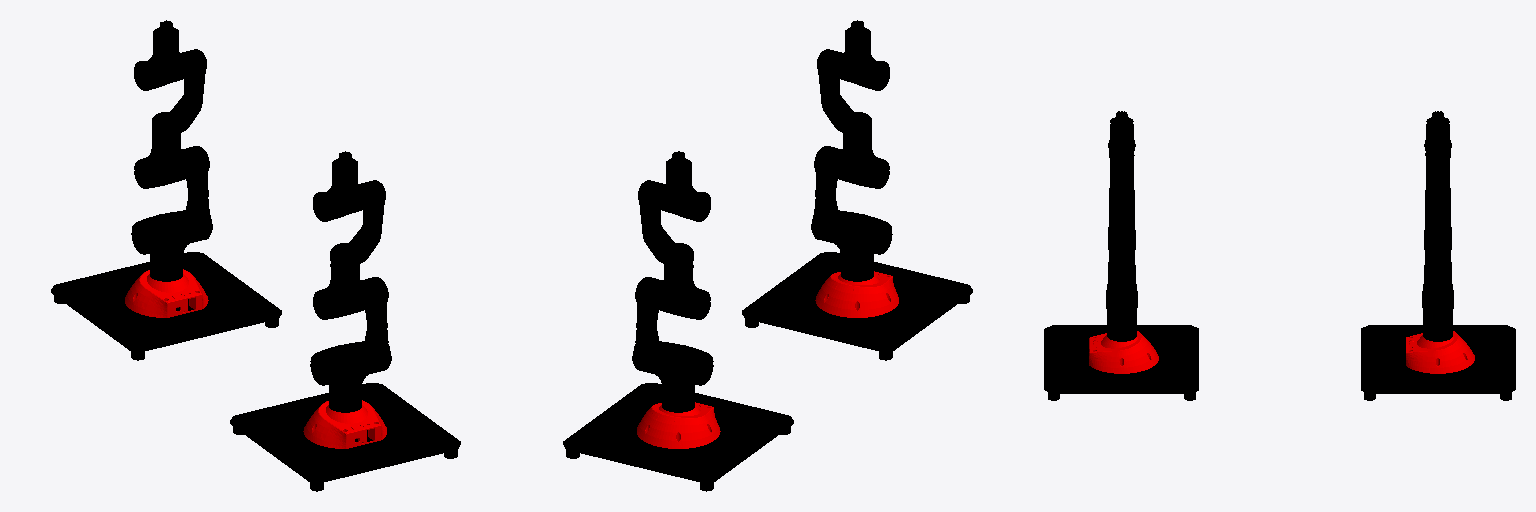
--- What the picture shows (computed from the rendered views, not written in the file) ---
The picture shows the robot from 3 angles, left to right: view 1: azimuth 30°, elevation 25°; view 2: azimuth 150°, elevation 25°; view 3: azimuth 270°, elevation 25°; orthographic projection.
Model mara with 27 links and 26 joints (12 revolute, 14 fixed), rooted at world, posed every joint at zero.
Links seen in each view (by area): view 1: mara2_base_link, mara1_base_link, mara1_base_robot, mara2_base_robot, mara2_motor1_link, mara1_motor1_link, mara1_motor4_link, mara2_motor4_link, mara2_motor5_link, mara1_motor5_link, mara1_motor3_link, mara2_motor3_link (+8 smaller); view 2: mara1_base_link, mara2_base_link, mara1_base_robot, mara2_base_robot, mara1_motor1_link, mara2_motor1_link, mara2_motor4_link, mara1_motor4_link, mara1_motor5_link, mara2_motor5_link, mara2_motor3_link, mara1_motor3_link (+8 smaller); view 3: mara2_base_link, mara1_base_link, mara1_motor2_link, mara2_motor2_link, mara1_base_robot, mara2_base_robot, mara1_motor4_link, mara2_motor4_link, mara2_motor5_link, mara1_motor5_link, mara1_motor3_link, mara2_motor3_link.
Boxes of the visible links, x1,y1,x2,y2 form: mara2_base_link: (51,252,281,360); mara1_base_link: (230,383,460,491); mara1_base_robot: (303,400,386,448); mara2_base_robot: (125,269,208,317); mara2_motor1_link: (150,210,198,277); mara1_motor1_link: (329,341,377,408); mara1_motor4_link: (330,180,385,266); mara2_motor4_link: (152,49,206,135); mara2_motor5_link: (148,20,192,83); mara1_motor5_link: (327,151,371,214); mara1_motor3_link: (325,264,373,314); mara2_motor3_link: (146,135,194,183); mara1_base_link: (742,252,972,360); mara2_base_link: (563,383,793,491); mara1_base_robot: (815,271,898,317); mara2_base_robot: (637,402,720,448); mara1_motor1_link: (825,210,873,277); mara2_motor1_link: (646,341,694,408); mara2_motor4_link: (638,180,693,266); mara1_motor4_link: (817,49,871,135); mara1_motor5_link: (831,20,875,83); mara2_motor5_link: (652,151,696,214); mara2_motor3_link: (650,265,698,314); mara1_motor3_link: (829,135,877,183); mara2_base_link: (1361,325,1515,400); mara1_base_link: (1044,325,1198,400); mara1_motor2_link: (1107,240,1136,326); mara2_motor2_link: (1423,240,1452,326); mara1_base_robot: (1089,331,1158,373); mara2_base_robot: (1406,331,1474,373); mara1_motor4_link: (1109,154,1134,211); mara2_motor4_link: (1425,154,1450,211); mara2_motor5_link: (1425,111,1450,163); mara1_motor5_link: (1109,111,1134,162); mara1_motor3_link: (1108,212,1135,249); mara2_motor3_link: (1424,212,1451,249).
Bounding box of the posed robot: 0.5 × 1.52 × 0.9122 m (x, y, z).
20 mesh visuals loaded from 10 distinct referenced files (10 Collada DAE).

robot.urdf — mara:
<?xml version="1.0" ?>
<!-- =================================================================================== -->
<!-- |    This document was autogenerated by xacro from ros2_mara_ws/src/mara/mara_description/urdf/two_mara_robots.urdf.xacro | -->
<!-- |    EDITING THIS FILE BY HAND IS NOT RECOMMENDED                                 | -->
<!-- =================================================================================== -->
<robot name="mara" xmlns:xacro="http://ros.org/wiki/xacro">
  <!--
  Author: Alejandro  Hernandez
-->
  <link name="mara1_base_link">
    <inertial>
      <origin rpy="0 0 0" xyz="8.625E-08 -4.6583E-06 0.03145"/>
      <mass value="7.033"/>
      <inertia ixx="0.1478344" ixy="-0.00001" ixz="0.0" iyy="0.14782335" iyz="0.0" izz="0.29471799"/>
    </inertial>
    <visual>
      <origin rpy="0 0 0" xyz="0 0 0"/>
      <geometry>
        <mesh filename="package://mara_description/meshes/Base_plancha.dae" scale="0.001 0.001 0.001"/>
      </geometry>
      <material name="Gazebo/Grey">
        <color rgba="0. 0. 0. 1"/>
      </material>
    </visual>
    <collision>
      <origin rpy="0 0 0" xyz="0 0 0"/>
      <geometry>
        <mesh filename="package://mara_description/meshes/Base_plancha.dae" scale="0.001 0.001 0.001"/>
      </geometry>
    </collision>
  </link>
  <gazebo reference="mara1_base_link">
    <material>Gazebo/Grey</material>
    <selfCollide>True</selfCollide>
  </gazebo>
  <link name="mara1_base_robot">
    <inertial>
      <origin rpy="0 0 0" xyz="8.625E-08 -4.6583E-06 0.03145"/>
      <mass value="7.033"/>
      <inertia ixx="0.1478344" ixy="0.00001" ixz="0.0" iyy="0.14782335" iyz="0.0" izz="0.29471799"/>
    </inertial>
    <visual>
      <origin rpy="0 0 0" xyz="0 0 0"/>
      <geometry>
        <mesh filename="package://mara_description/meshes/Base.dae" scale="0.001 0.001 0.001"/>
      </geometry>
      <material name="Gazebo/Black">
        <color rgba="1. 0. 0. 1.0"/>
      </material>
    </visual>
    <collision>
      <origin rpy="0 0 0" xyz="0 0 0"/>
      <geometry>
        <mesh filename="package://mara_description/meshes/Base.dae" scale="0.001 0.001 0.001"/>
      </geometry>
    </collision>
  </link>
  <gazebo reference="mara1_base_robot">
    <material>Gazebo/Black</material>
    <selfCollide>True</selfCollide>
  </gazebo>
  <link name="mara1_motor1_link">
    <inertial>
      <origin rpy="0 0 0" xyz="0.02066 0 0.12051"/>
      <mass value="5.6"/>
      <inertia ixx="0.0200769278" ixy="-7.72273E-006" ixz="-0.0050158708" iyy="0.0257088151" iyz="5.49229E-006" izz="0.0120821377"/>
    </inertial>
    <visual>
      <origin rpy="0 0 0" xyz="0 0 0"/>
      <geometry>
        <mesh filename="package://mara_description/meshes/MARA_T49.dae" scale="0.001 0.001 0.001"/>
      </geometry>
      <material name="Gazebo/White">
        <color rgba="0. 0. 0. 1"/>
      </material>
    </visual>
    <collision>
      <origin rpy="0 0 0" xyz="0 0 0"/>
      <geometry>
        <mesh filename="package://mara_description/meshes/MARA_T49.dae" scale="0.001 0.001 0.001"/>
      </geometry>
    </collision>
  </link>
  <gazebo reference="mara1_motor1_link">
    <material>Gazebo/White</material>
    <selfCollide>True</selfCollide>
  </gazebo>
  <link name="mara1_motor1_cover">
    <inertial>
      <origin rpy="0 0 0" xyz="0 0 0"/>
      <mass value="0.0"/>
      <inertia ixx="0.0" ixy="0.0" ixz="0.0" iyy="0.0" iyz="0.0" izz="0.0"/>
    </inertial>
    <visual>
      <origin rpy="0 0 0" xyz="0 0 0"/>
      <geometry>
        <mesh filename="package://mara_description/meshes/MARA_T49_Black.dae" scale="0.001 0.001 0.001"/>
      </geometry>
      <material name="Gazebo/Black">
        <color rgba="0. 0. 0. 1"/>
      </material>
    </visual>
    <collision>
      <origin rpy="0 0 0" xyz="0 0 0"/>
      <geometry>
        <mesh filename="package://mara_description/meshes/MARA_T49_Black.dae" scale="0.001 0.001 0.001"/>
      </geometry>
    </collision>
  </link>
  <gazebo reference="mara1_motor1_cover">
    <material>Gazebo/Black</material>
    <selfCollide>True</selfCollide>
  </gazebo>
  <link name="mara1_motor2_link">
    <inertial>
      <origin rpy="0 0 0" xyz="-0.01665 0.0 0.09639"/>
      <mass value="1.24"/>
      <inertia ixx="0.0079614839" ixy="0.000000037" ixz="0.0003203013" iyy="0.007135338" iyz="-0.000001062" izz="0.001111114"/>
    </inertial>
    <visual>
      <origin rpy="0 0 0" xyz="0 0 0"/>
      <geometry>
        <mesh filename="package://mara_description/meshes/MARA_Link1.dae" scale="0.001 0.001 0.001"/>
      </geometry>
      <material name="Gazebo/Black">
        <color rgba="0. 0. 0. 1"/>
      </material>
    </visual>
    <collision>
      <origin rpy="0 0 0" xyz="0 0 0"/>
      <geometry>
        <mesh filename="package://mara_description/meshes/MARA_Link1.dae" scale="0.001 0.001 0.001"/>
      </geometry>
    </collision>
  </link>
  <gazebo reference="mara1_motor2_link">
    <material>Gazebo/Black</material>
    <selfCollide>True</selfCollide>
  </gazebo>
  <link name="mara1_motor3_link">
    <inertial>
      <origin rpy="0 0 0" xyz="-0.08963 0 0.0403"/>
      <mass value="3.95"/>
      <inertia ixx="0.0115136615" ixy="-1.231046E-005" ixz="0.003148516" iyy="0.0149841676" iyz="-8.81378E-006" izz="0.0070387807"/>
    </inertial>
    <visual>
      <origin rpy="0 0 0" xyz="0 0 0"/>
      <geometry>
        <mesh filename="package://mara_description/meshes/MARA_T30.dae" scale="0.001 0.001 0.001"/>
      </geometry>
      <material name="Gazebo/White">
        <color rgba="0. 0. 0. 1"/>
      </material>
    </visual>
    <collision>
      <origin rpy="0 0 0" xyz="0 0 0"/>
      <geometry>
        <mesh filename="package://mara_description/meshes/MARA_T30.dae" scale="0.001 0.001 0.001"/>
      </geometry>
    </collision>
  </link>
  <gazebo reference="mara1_motor3_link">
    <material>Gazebo/White</material>
    <selfCollide>True</selfCollide>
  </gazebo>
  <link name="mara1_motor3_cover">
    <inertial>
      <origin rpy="0 0 0" xyz="0 0 0"/>
      <mass value="0.0"/>
      <inertia ixx="0.0" ixy="0.0" ixz="0.0" iyy="0.0" iyz="0.0" izz="0.0"/>
    </inertial>
    <visual>
      <origin rpy="0 0 0" xyz="0 0 0"/>
      <geometry>
        <mesh filename="package://mara_description/meshes/MARA_T30_Black.dae" scale="0.001 0.001 0.001"/>
      </geometry>
      <material name="Gazebo/Black">
        <color rgba="0. 0. 0. 1"/>
      </material>
    </visual>
    <collision>
      <origin rpy="0 0 0" xyz="0 0 0"/>
      <geometry>
        <mesh filename="package://mara_description/meshes/MARA_T30_Black.dae" scale="0.001 0.001 0.001"/>
      </geometry>
    </collision>
  </link>
  <gazebo reference="mara1_motor3_cover">
    <material>Gazebo/Black</material>
    <selfCollide>True</selfCollide>
  </gazebo>
  <link name="mara1_motor4_link">
    <inertial>
      <origin rpy="0 0 0" xyz="0.06357 0.0 0.05698"/>
      <mass value="1.26"/>
      <inertia ixx="0.005919676" ixy="0.000000923" ixz="-0.0022280208" iyy="0.0068807393" iyz="6.1373E-007" izz="0.00257485"/>
    </inertial>
    <visual>
      <origin rpy="0 0 0" xyz="0 0 0"/>
      <geometry>
        <mesh filename="package://mara_description/meshes/MARA_Link2.dae" scale="0.001 0.001 0.001"/>
      </geometry>
      <material name="Gazebo/Black">
        <color rgba="0. 0. 0. 1"/>
      </material>
    </visual>
    <collision>
      <origin rpy="0 0 0" xyz="0 0 0"/>
      <geometry>
        <mesh filename="package://mara_description/meshes/MARA_Link2.dae" scale="0.001 0.001 0.001"/>
      </geometry>
    </collision>
  </link>
  <gazebo reference="mara1_motor4_link">
    <material>Gazebo/Black</material>
    <selfCollide>True</selfCollide>
  </gazebo>
  <link name="mara1_motor5_link">
    <inertial>
      <origin rpy="0 0 0" xyz="-0.09105 0.0 0.03676"/>
      <mass value="2.85"/>
      <inertia ixx="0.0072829492" ixy="3.77994E-006" ixz="0.0015682105" iyy="0.0098263499" iyz="2.52745E-006" izz="0.0045615321"/>
    </inertial>
    <visual>
      <origin rpy="0 0 0" xyz="0 0 0"/>
      <geometry>
        <mesh filename="package://mara_description/meshes/MARA_T5.4.dae" scale="0.001 0.001 0.001"/>
      </geometry>
      <material name="Gazebo/White">
        <color rgba="0. 0. 0. 1"/>
      </material>
    </visual>
    <collision>
      <origin rpy="0 0 0" xyz="0 0 0"/>
      <geometry>
        <mesh filename="package://mara_description/meshes/MARA_T5.4.dae" scale="0.001 0.001 0.001"/>
      </geometry>
    </collision>
  </link>
  <gazebo reference="mara1_motor5_link">
    <material>Gazebo/White</material>
    <selfCollide>True</selfCollide>
  </gazebo>
  <link name="mara1_motor5_cover">
    <inertial>
      <origin rpy="0 0 0" xyz="0 0 0"/>
      <mass value="0.0"/>
      <inertia ixx="0.0" ixy="0.0" ixz="0.0" iyy="0.0" iyz="0.0" izz="0.0"/>
    </inertial>
    <visual>
      <origin rpy="0 0 0" xyz="0 0 0"/>
      <geometry>
        <mesh filename="package://mara_description/meshes/MARA_T5.4_black.dae" scale="0.001 0.001 0.001"/>
      </geometry>
      <material name="Gazebo/Black">
        <color rgba="0. 0. 0. 1"/>
      </material>
    </visual>
    <collision>
      <origin rpy="0 0 0" xyz="0 0 0"/>
      <geometry>
        <mesh filename="package://mara_description/meshes/MARA_T5.4_black.dae" scale="0.001 0.001 0.001"/>
      </geometry>
    </collision>
  </link>
  <gazebo reference="mara1_motor5_cover">
    <material>Gazebo/Black</material>
    <selfCollide>True</selfCollide>
  </gazebo>
  <!-- dummy link with the required tags-->
  <link name="mara1_motor6_link">
    <inertial>
      <origin rpy="0 0 0" xyz="0 0 0"/>
      <mass value="0.00001"/>
      <inertia ixx="0" ixy="0" ixz="0" iyy="0" iyz="0" izz="0"/>
    </inertial>
    <visual>
      <origin rpy="0 0 0" xyz="0 0 0"/>
      <geometry>
        <sphere radius="0"/>
      </geometry>
    </visual>
    <collision>
      <origin rpy="0 0 0" xyz="0 0 0"/>
      <geometry>
        <sphere radius="0"/>
      </geometry>
    </collision>
  </link>
  <link name="mara1_ee_link"/>
  <joint name="mara1_joint_bases" type="fixed">
    <origin rpy="0 0 0" xyz="0 0 0.04"/>
    <parent link="mara1_base_link"/>
    <child link="mara1_base_robot"/>
  </joint>
  <joint name="mara1_motor1" type="revolute">
    <origin rpy="0 0 0" xyz="0 0 0.05122"/>
    <parent link="mara1_base_robot"/>
    <child link="mara1_motor1_link"/>
    <axis xyz="0 0 1"/>
    <limit effort="104.0" lower="-3.1416" upper="3.1416" velocity="1.57"/>
    <dynamics damping="0" friction="0"/>
  </joint>
  <joint name="mara1_motor1_cover_joint" type="fixed">
    <origin rpy="0 0 0" xyz="0 0 0.0"/>
    <parent link="mara1_motor1_link"/>
    <child link="mara1_motor1_cover"/>
  </joint>
  <joint name="mara1_motor2" type="revolute">
    <origin rpy="0 0 0" xyz="0.118 0 0.1637"/>
    <parent link="mara1_motor1_link"/>
    <child link="mara1_motor2_link"/>
    <axis xyz="1 0 0"/>
    <limit effort="104.0" lower="-2.35" upper="2.35" velocity="1.57"/>
    <dynamics damping="0" friction="0"/>
  </joint>
  <joint name="mara1_motor3" type="revolute">
    <origin rpy="0 0 0" xyz="-0.009 0 0.2"/>
    <parent link="mara1_motor2_link"/>
    <child link="mara1_motor3_link"/>
    <axis xyz="-1 0 0"/>
    <limit effort="69" lower="-2.61" upper="2.61" velocity="1.57"/>
    <dynamics damping="0" friction="0"/>
  </joint>
  <joint name="mara1_motor3_cover_joint" type="fixed">
    <origin rpy="0 0 0" xyz="0 0 0.0"/>
    <parent link="mara1_motor3_link"/>
    <child link="mara1_motor3_cover"/>
  </joint>
  <joint name="mara1_motor4" type="revolute">
    <origin rpy="0 0 0" xyz="-0.109255 0 0.149255"/>
    <parent link="mara1_motor3_link"/>
    <child link="mara1_motor4_link"/>
    <axis xyz="0 0 1"/>
    <limit effort="69" lower="-3.14" upper="3.14" velocity="1.57"/>
    <dynamics damping="0" friction="0"/>
  </joint>
  <joint name="mara1_motor5" type="revolute">
    <origin rpy="0 0 0" xyz="0.1054570 0 0.16074"/>
    <parent link="mara1_motor4_link"/>
    <child link="mara1_motor5_link"/>
    <axis xyz="-1 0 0"/>
    <limit effort="34" lower="-2.56" upper="2.56" velocity="1.57"/>
    <dynamics damping="0" friction="0"/>
  </joint>
  <joint name="mara1_motor5_cover_joint" type="fixed">
    <origin rpy="0 0 0" xyz="0 0 0.0"/>
    <parent link="mara1_motor5_link"/>
    <child link="mara1_motor5_cover"/>
  </joint>
  <joint name="mara1_motor6" type="revolute">
    <origin rpy="0 0 0" xyz="-0.10625569 0 0.14675569"/>
    <parent link="mara1_motor5_link"/>
    <child link="mara1_motor6_link"/>
    <axis xyz="0 0 1"/>
    <limit effort="34" lower="-3.14" upper="3.14" velocity="1.57"/>
    <dynamics damping="0" friction="0"/>
  </joint>
  <joint name="mara1_ee_link" type="fixed">
    <origin rpy="0 -1.57 0" xyz="0 0.0 0.0"/>
    <parent link="mara1_motor6_link"/>
    <child link="mara1_ee_link"/>
  </joint>
  <link name="mara1_tool0"/>
  <joint name="mara1_motor6_link-tool0_fixed_joint" type="fixed">
    <origin rpy="0 -1.57 0" xyz="0 0.0 0.0"/>
    <parent link="mara1_motor6_link"/>
    <child link="mara1_tool0"/>
  </joint>
  <transmission name="mara1_shoulder_pan_trans">
    <type>transmission_interface/SimpleTransmission</type>
    <joint name="mara1_motor1">
      <hardwareInterface>hardware_interface/PositionJointInterface</hardwareInterface>
    </joint>
    <actuator name="mara1_shoulder_pan_motor">
      <mechanicalReduction>1</mechanicalReduction>
    </actuator>
  </transmission>
  <transmission name="mara1_shoulder_lift_trans">
    <type>transmission_interface/SimpleTransmission</type>
    <joint name="mara1_motor2">
      <hardwareInterface>hardware_interface/PositionJointInterface</hardwareInterface>
    </joint>
    <actuator name="mara1_shoulder_lift_motor">
      <mechanicalReduction>1</mechanicalReduction>
    </actuator>
  </transmission>
  <transmission name="mara1_elbow_trans">
    <type>transmission_interface/SimpleTransmission</type>
    <joint name="mara1_motor3">
      <hardwareInterface>hardware_interface/PositionJointInterface</hardwareInterface>
    </joint>
    <actuator name="mara1_elbow_motor">
      <mechanicalReduction>1</mechanicalReduction>
    </actuator>
  </transmission>
  <transmission name="mara1_wrist_1_trans">
    <type>transmission_interface/SimpleTransmission</type>
    <joint name="mara1_motor4">
      <hardwareInterface>hardware_interface/PositionJointInterface</hardwareInterface>
    </joint>
    <actuator name="mara1_wrist_1_motor">
      <mechanicalReduction>1</mechanicalReduction>
    </actuator>
  </transmission>
  <transmission name="mara1_wrist_2_trans">
    <type>transmission_interface/SimpleTransmission</type>
    <joint name="mara1_motor5">
      <hardwareInterface>hardware_interface/PositionJointInterface</hardwareInterface>
    </joint>
    <actuator name="mara1_wrist_2_motor">
      <mechanicalReduction>1</mechanicalReduction>
    </actuator>
  </transmission>
  <transmission name="mara1_wrist_3_trans">
    <type>transmission_interface/SimpleTransmission</type>
    <joint name="mara1_motor6">
      <hardwareInterface>hardware_interface/PositionJointInterface</hardwareInterface>
    </joint>
    <actuator name="mara1_wrist_3_motor">
      <mechanicalReduction>1</mechanicalReduction>
    </actuator>
  </transmission>
  <gazebo>
    <plugin filename="libgazebo_ros_joint_state_publisher.so" name="mara1_joint_state">
      <ros>
        <argument>~/out:=mara1_joint_states</argument>
      </ros>
      <update_rate>25</update_rate>
      <joint_name>mara1_motor1</joint_name>
      <joint_name>mara1_motor2</joint_name>
      <joint_name>mara1_motor3</joint_name>
      <joint_name>mara1_motor4</joint_name>
      <joint_name>mara1_motor5</joint_name>
      <joint_name>mara1_motor6</joint_name>
      <joint_name>mara1_joint_finger</joint_name>
    </plugin>
    <plugin filename="libmara_gazebo_joint_plugin.so" name="hrim_actuation_servomotor_000000000001">
      <ros/>
      <axis1>mara1_motor2</axis1>
      <axis2>mara1_motor1</axis2>
      <type>series14</type>
    </plugin>
    <plugin filename="libmara_gazebo_joint_plugin.so" name="hrim_actuation_servomotor_000000000002">
      <ros/>
      <axis1>mara1_motor3</axis1>
      <axis2>mara1_motor4</axis2>
      <type>series17</type>
    </plugin>
    <plugin filename="libmara_gazebo_joint_plugin.so" name="hrim_actuation_servomotor_000000000003">
      <ros/>
      <axis1>mara1_motor5</axis1>
      <axis2>mara1_motor6</axis2>
      <type>series20</type>
    </plugin>
  </gazebo>
  <link name="mara2_base_link">
    <inertial>
      <origin rpy="0 0 0" xyz="8.625E-08 -4.6583E-06 0.03145"/>
      <mass value="7.033"/>
      <inertia ixx="0.1478344" ixy="-0.00001" ixz="0.0" iyy="0.14782335" iyz="0.0" izz="0.29471799"/>
    </inertial>
    <visual>
      <origin rpy="0 0 0" xyz="0 0 0"/>
      <geometry>
        <mesh filename="package://mara_description/meshes/Base_plancha.dae" scale="0.001 0.001 0.001"/>
      </geometry>
      <material name="Gazebo/Grey">
        <color rgba="0. 0. 0. 1"/>
      </material>
    </visual>
    <collision>
      <origin rpy="0 0 0" xyz="0 0 0"/>
      <geometry>
        <mesh filename="package://mara_description/meshes/Base_plancha.dae" scale="0.001 0.001 0.001"/>
      </geometry>
    </collision>
  </link>
  <gazebo reference="mara2_base_link">
    <material>Gazebo/Grey</material>
    <selfCollide>True</selfCollide>
  </gazebo>
  <link name="mara2_base_robot">
    <inertial>
      <origin rpy="0 0 0" xyz="8.625E-08 -4.6583E-06 0.03145"/>
      <mass value="7.033"/>
      <inertia ixx="0.1478344" ixy="0.00001" ixz="0.0" iyy="0.14782335" iyz="0.0" izz="0.29471799"/>
    </inertial>
    <visual>
      <origin rpy="0 0 0" xyz="0 0 0"/>
      <geometry>
        <mesh filename="package://mara_description/meshes/Base.dae" scale="0.001 0.001 0.001"/>
      </geometry>
      <material name="Gazebo/Black">
        <color rgba="1. 0. 0. 1.0"/>
      </material>
    </visual>
    <collision>
      <origin rpy="0 0 0" xyz="0 0 0"/>
      <geometry>
        <mesh filename="package://mara_description/meshes/Base.dae" scale="0.001 0.001 0.001"/>
      </geometry>
    </collision>
  </link>
  <gazebo reference="mara2_base_robot">
    <material>Gazebo/Black</material>
    <selfCollide>True</selfCollide>
  </gazebo>
  <link name="mara2_motor1_link">
    <inertial>
      <origin rpy="0 0 0" xyz="0.02066 0 0.12051"/>
      <mass value="5.6"/>
      <inertia ixx="0.0200769278" ixy="-7.72273E-006" ixz="-0.0050158708" iyy="0.0257088151" iyz="5.49229E-006" izz="0.0120821377"/>
    </inertial>
    <visual>
      <origin rpy="0 0 0" xyz="0 0 0"/>
      <geometry>
        <mesh filename="package://mara_description/meshes/MARA_T49.dae" scale="0.001 0.001 0.001"/>
      </geometry>
      <material name="Gazebo/White">
        <color rgba="0. 0. 0. 1"/>
      </material>
    </visual>
    <collision>
      <origin rpy="0 0 0" xyz="0 0 0"/>
      <geometry>
        <mesh filename="package://mara_description/meshes/MARA_T49.dae" scale="0.001 0.001 0.001"/>
      </geometry>
    </collision>
  </link>
  <gazebo reference="mara2_motor1_link">
    <material>Gazebo/White</material>
    <selfCollide>True</selfCollide>
  </gazebo>
  <link name="mara2_motor1_cover">
    <inertial>
      <origin rpy="0 0 0" xyz="0 0 0"/>
      <mass value="0.0"/>
      <inertia ixx="0.0" ixy="0.0" ixz="0.0" iyy="0.0" iyz="0.0" izz="0.0"/>
    </inertial>
    <visual>
      <origin rpy="0 0 0" xyz="0 0 0"/>
      <geometry>
        <mesh filename="package://mara_description/meshes/MARA_T49_Black.dae" scale="0.001 0.001 0.001"/>
      </geometry>
      <material name="Gazebo/Black">
        <color rgba="0. 0. 0. 1"/>
      </material>
    </visual>
    <collision>
      <origin rpy="0 0 0" xyz="0 0 0"/>
      <geometry>
        <mesh filename="package://mara_description/meshes/MARA_T49_Black.dae" scale="0.001 0.001 0.001"/>
      </geometry>
    </collision>
  </link>
  <gazebo reference="mara2_motor1_cover">
    <material>Gazebo/Black</material>
    <selfCollide>True</selfCollide>
  </gazebo>
  <link name="mara2_motor2_link">
    <inertial>
      <origin rpy="0 0 0" xyz="-0.01665 0.0 0.09639"/>
      <mass value="1.24"/>
      <inertia ixx="0.0079614839" ixy="0.000000037" ixz="0.0003203013" iyy="0.007135338" iyz="-0.000001062" izz="0.001111114"/>
    </inertial>
    <visual>
      <origin rpy="0 0 0" xyz="0 0 0"/>
      <geometry>
        <mesh filename="package://mara_description/meshes/MARA_Link1.dae" scale="0.001 0.001 0.001"/>
      </geometry>
      <material name="Gazebo/Black">
        <color rgba="0. 0. 0. 1"/>
      </material>
    </visual>
    <collision>
      <origin rpy="0 0 0" xyz="0 0 0"/>
      <geometry>
        <mesh filename="package://mara_description/meshes/MARA_Link1.dae" scale="0.001 0.001 0.001"/>
      </geometry>
    </collision>
  </link>
  <gazebo reference="mara2_motor2_link">
    <material>Gazebo/Black</material>
    <selfCollide>True</selfCollide>
  </gazebo>
  <link name="mara2_motor3_link">
    <inertial>
      <origin rpy="0 0 0" xyz="-0.08963 0 0.0403"/>
      <mass value="3.95"/>
      <inertia ixx="0.0115136615" ixy="-1.231046E-005" ixz="0.003148516" iyy="0.0149841676" iyz="-8.81378E-006" izz="0.0070387807"/>
    </inertial>
    <visual>
      <origin rpy="0 0 0" xyz="0 0 0"/>
      <geometry>
        <mesh filename="package://mara_description/meshes/MARA_T30.dae" scale="0.001 0.001 0.001"/>
      </geometry>
      <material name="Gazebo/White">
        <color rgba="0. 0. 0. 1"/>
      </material>
    </visual>
    <collision>
      <origin rpy="0 0 0" xyz="0 0 0"/>
      <geometry>
        <mesh filename="package://mara_description/meshes/MARA_T30.dae" scale="0.001 0.001 0.001"/>
      </geometry>
    </collision>
  </link>
  <gazebo reference="mara2_motor3_link">
    <material>Gazebo/White</material>
    <selfCollide>True</selfCollide>
  </gazebo>
  <link name="mara2_motor3_cover">
    <inertial>
      <origin rpy="0 0 0" xyz="0 0 0"/>
      <mass value="0.0"/>
      <inertia ixx="0.0" ixy="0.0" ixz="0.0" iyy="0.0" iyz="0.0" izz="0.0"/>
    </inertial>
    <visual>
      <origin rpy="0 0 0" xyz="0 0 0"/>
      <geometry>
        <mesh filename="package://mara_description/meshes/MARA_T30_Black.dae" scale="0.001 0.001 0.001"/>
      </geometry>
      <material name="Gazebo/Black">
        <color rgba="0. 0. 0. 1"/>
      </material>
    </visual>
    <collision>
      <origin rpy="0 0 0" xyz="0 0 0"/>
      <geometry>
        <mesh filename="package://mara_description/meshes/MARA_T30_Black.dae" scale="0.001 0.001 0.001"/>
      </geometry>
    </collision>
  </link>
  <gazebo reference="mara2_motor3_cover">
    <material>Gazebo/Black</material>
    <selfCollide>True</selfCollide>
  </gazebo>
  <link name="mara2_motor4_link">
    <inertial>
      <origin rpy="0 0 0" xyz="0.06357 0.0 0.05698"/>
      <mass value="1.26"/>
      <inertia ixx="0.005919676" ixy="0.000000923" ixz="-0.0022280208" iyy="0.0068807393" iyz="6.1373E-007" izz="0.00257485"/>
    </inertial>
    <visual>
      <origin rpy="0 0 0" xyz="0 0 0"/>
      <geometry>
        <mesh filename="package://mara_description/meshes/MARA_Link2.dae" scale="0.001 0.001 0.001"/>
      </geometry>
      <material name="Gazebo/Black">
        <color rgba="0. 0. 0. 1"/>
      </material>
    </visual>
    <collision>
      <origin rpy="0 0 0" xyz="0 0 0"/>
      <geometry>
        <mesh filename="package://mara_description/meshes/MARA_Link2.dae" scale="0.001 0.001 0.001"/>
      </geometry>
    </collision>
  </link>
  <gazebo reference="mara2_motor4_link">
    <material>Gazebo/Black</material>
    <selfCollide>True</selfCollide>
  </gazebo>
  <link name="mara2_motor5_link">
    <inertial>
      <origin rpy="0 0 0" xyz="-0.09105 0.0 0.03676"/>
      <mass value="2.85"/>
      <inertia ixx="0.0072829492" ixy="3.77994E-006" ixz="0.0015682105" iyy="0.0098263499" iyz="2.52745E-006" izz="0.0045615321"/>
    </inertial>
    <visual>
      <origin rpy="0 0 0" xyz="0 0 0"/>
      <geometry>
        <mesh filename="package://mara_description/meshes/MARA_T5.4.dae" scale="0.001 0.001 0.001"/>
      </geometry>
      <material name="Gazebo/White">
        <color rgba="0. 0. 0. 1"/>
      </material>
    </visual>
    <collision>
      <origin rpy="0 0 0" xyz="0 0 0"/>
      <geometry>
        <mesh filename="package://mara_description/meshes/MARA_T5.4.dae" scale="0.001 0.001 0.001"/>
      </geometry>
    </collision>
  </link>
  <gazebo reference="mara2_motor5_link">
    <material>Gazebo/White</material>
    <selfCollide>True</selfCollide>
  </gazebo>
  <link name="mara2_motor5_cover">
    <inertial>
      <origin rpy="0 0 0" xyz="0 0 0"/>
      <mass value="0.0"/>
      <inertia ixx="0.0" ixy="0.0" ixz="0.0" iyy="0.0" iyz="0.0" izz="0.0"/>
    </inertial>
    <visual>
      <origin rpy="0 0 0" xyz="0 0 0"/>
      <geometry>
        <mesh filename="package://mara_description/meshes/MARA_T5.4_black.dae" scale="0.001 0.001 0.001"/>
      </geometry>
      <material name="Gazebo/Black">
        <color rgba="0. 0. 0. 1"/>
      </material>
    </visual>
    <collision>
      <origin rpy="0 0 0" xyz="0 0 0"/>
      <geometry>
        <mesh filename="package://mara_description/meshes/MARA_T5.4_black.dae" scale="0.001 0.001 0.001"/>
      </geometry>
    </collision>
  </link>
  <gazebo reference="mara2_motor5_cover">
    <material>Gazebo/Black</material>
    <selfCollide>True</selfCollide>
  </gazebo>
  <!-- dummy link with the required tags-->
  <link name="mara2_motor6_link">
    <inertial>
      <origin rpy="0 0 0" xyz="0 0 0"/>
      <mass value="0.00001"/>
      <inertia ixx="0" ixy="0" ixz="0" iyy="0" iyz="0" izz="0"/>
    </inertial>
    <visual>
      <origin rpy="0 0 0" xyz="0 0 0"/>
      <geometry>
        <sphere radius="0"/>
      </geometry>
    </visual>
    <collision>
      <origin rpy="0 0 0" xyz="0 0 0"/>
      <geometry>
        <sphere radius="0"/>
      </geometry>
    </collision>
  </link>
  <link name="mara2_ee_link"/>
  <joint name="mara2_joint_bases" type="fixed">
    <origin rpy="0 0 0" xyz="0 0 0.04"/>
    <parent link="mara2_base_link"/>
    <child link="mara2_base_robot"/>
  </joint>
  <joint name="mara2_motor1" type="revolute">
    <origin rpy="0 0 0" xyz="0 0 0.05122"/>
    <parent link="mara2_base_robot"/>
    <child link="mara2_motor1_link"/>
    <axis xyz="0 0 1"/>
    <limit effort="104.0" lower="-3.1416" upper="3.1416" velocity="1.57"/>
    <dynamics damping="0" friction="0"/>
  </joint>
  <joint name="mara2_motor1_cover_joint" type="fixed">
    <origin rpy="0 0 0" xyz="0 0 0.0"/>
    <parent link="mara2_motor1_link"/>
    <child link="mara2_motor1_cover"/>
  </joint>
  <joint name="mara2_motor2" type="revolute">
    <origin rpy="0 0 0" xyz="0.118 0 0.1637"/>
    <parent link="mara2_motor1_link"/>
    <child link="mara2_motor2_link"/>
    <axis xyz="1 0 0"/>
    <limit effort="104.0" lower="-2.35" upper="2.35" velocity="1.57"/>
    <dynamics damping="0" friction="0"/>
  </joint>
  <joint name="mara2_motor3" type="revolute">
    <origin rpy="0 0 0" xyz="-0.009 0 0.2"/>
    <parent link="mara2_motor2_link"/>
    <child link="mara2_motor3_link"/>
    <axis xyz="-1 0 0"/>
    <limit effort="69" lower="-2.61" upper="2.61" velocity="1.57"/>
    <dynamics damping="0" friction="0"/>
  </joint>
  <joint name="mara2_motor3_cover_joint" type="fixed">
    <origin rpy="0 0 0" xyz="0 0 0.0"/>
    <parent link="mara2_motor3_link"/>
    <child link="mara2_motor3_cover"/>
  </joint>
  <joint name="mara2_motor4" type="revolute">
    <origin rpy="0 0 0" xyz="-0.109255 0 0.149255"/>
    <parent link="mara2_motor3_link"/>
    <child link="mara2_motor4_link"/>
    <axis xyz="0 0 1"/>
    <limit effort="69" lower="-3.14" upper="3.14" velocity="1.57"/>
    <dynamics damping="0" friction="0"/>
  </joint>
  <joint name="mara2_motor5" type="revolute">
    <origin rpy="0 0 0" xyz="0.1054570 0 0.16074"/>
    <parent link="mara2_motor4_link"/>
    <child link="mara2_motor5_link"/>
    <axis xyz="-1 0 0"/>
    <limit effort="34" lower="-2.56" upper="2.56" velocity="1.57"/>
    <dynamics damping="0" friction="0"/>
  </joint>
  <joint name="mara2_motor5_cover_joint" type="fixed">
    <origin rpy="0 0 0" xyz="0 0 0.0"/>
    <parent link="mara2_motor5_link"/>
    <child link="mara2_motor5_cover"/>
  </joint>
  <joint name="mara2_motor6" type="revolute">
    <origin rpy="0 0 0" xyz="-0.10625569 0 0.14675569"/>
    <parent link="mara2_motor5_link"/>
    <child link="mara2_motor6_link"/>
    <axis xyz="0 0 1"/>
    <limit effort="34" lower="-3.14" upper="3.14" velocity="1.57"/>
    <dynamics damping="0" friction="0"/>
  </joint>
  <joint name="mara2_ee_link" type="fixed">
    <origin rpy="0 -1.57 0" xyz="0 0.0 0.0"/>
    <parent link="mara2_motor6_link"/>
    <child link="mara2_ee_link"/>
  </joint>
  <link name="mara2_tool0"/>
  <joint name="mara2_motor6_link-tool0_fixed_joint" type="fixed">
    <origin rpy="0 -1.57 0" xyz="0 0.0 0.0"/>
    <parent link="mara2_motor6_link"/>
    <child link="mara2_tool0"/>
  </joint>
  <transmission name="mara2_shoulder_pan_trans">
    <type>transmission_interface/SimpleTransmission</type>
    <joint name="mara2_motor1">
      <hardwareInterface>hardware_interface/PositionJointInterface</hardwareInterface>
    </joint>
    <actuator name="mara2_shoulder_pan_motor">
      <mechanicalReduction>1</mechanicalReduction>
    </actuator>
  </transmission>
  <transmission name="mara2_shoulder_lift_trans">
    <type>transmission_interface/SimpleTransmission</type>
    <joint name="mara2_motor2">
      <hardwareInterface>hardware_interface/PositionJointInterface</hardwareInterface>
    </joint>
    <actuator name="mara2_shoulder_lift_motor">
      <mechanicalReduction>1</mechanicalReduction>
    </actuator>
  </transmission>
  <transmission name="mara2_elbow_trans">
    <type>transmission_interface/SimpleTransmission</type>
    <joint name="mara2_motor3">
      <hardwareInterface>hardware_interface/PositionJointInterface</hardwareInterface>
    </joint>
    <actuator name="mara2_elbow_motor">
      <mechanicalReduction>1</mechanicalReduction>
    </actuator>
  </transmission>
  <transmission name="mara2_wrist_1_trans">
    <type>transmission_interface/SimpleTransmission</type>
    <joint name="mara2_motor4">
      <hardwareInterface>hardware_interface/PositionJointInterface</hardwareInterface>
    </joint>
    <actuator name="mara2_wrist_1_motor">
      <mechanicalReduction>1</mechanicalReduction>
    </actuator>
  </transmission>
  <transmission name="mara2_wrist_2_trans">
    <type>transmission_interface/SimpleTransmission</type>
    <joint name="mara2_motor5">
      <hardwareInterface>hardware_interface/PositionJointInterface</hardwareInterface>
    </joint>
    <actuator name="mara2_wrist_2_motor">
      <mechanicalReduction>1</mechanicalReduction>
    </actuator>
  </transmission>
  <transmission name="mara2_wrist_3_trans">
    <type>transmission_interface/SimpleTransmission</type>
    <joint name="mara2_motor6">
      <hardwareInterface>hardware_interface/PositionJointInterface</hardwareInterface>
    </joint>
    <actuator name="mara2_wrist_3_motor">
      <mechanicalReduction>1</mechanicalReduction>
    </actuator>
  </transmission>
  <gazebo>
    <plugin filename="libgazebo_ros_joint_state_publisher.so" name="mara2_joint_state">
      <ros>
        <argument>~/out:=mara2_joint_states</argument>
      </ros>
      <update_rate>25</update_rate>
      <joint_name>mara2_motor1</joint_name>
      <joint_name>mara2_motor2</joint_name>
      <joint_name>mara2_motor3</joint_name>
      <joint_name>mara2_motor4</joint_name>
      <joint_name>mara2_motor5</joint_name>
      <joint_name>mara2_motor6</joint_name>
      <joint_name>mara2_joint_finger</joint_name>
    </plugin>
    <plugin filename="libmara_gazebo_joint_plugin.so" name="hrim_actuation_servomotor_000000000005">
      <ros/>
      <axis1>mara2_motor2</axis1>
      <axis2>mara2_motor1</axis2>
      <type>series14</type>
    </plugin>
    <plugin filename="libmara_gazebo_joint_plugin.so" name="hrim_actuation_servomotor_000000000006">
      <ros/>
      <axis1>mara2_motor3</axis1>
      <axis2>mara2_motor4</axis2>
      <type>series17</type>
    </plugin>
    <plugin filename="libmara_gazebo_joint_plugin.so" name="hrim_actuation_servomotor_000000000007">
      <ros/>
      <axis1>mara2_motor5</axis1>
      <axis2>mara2_motor6</axis2>
      <type>series20</type>
    </plugin>
  </gazebo>
  <link name="world"/>
  <joint name="world_to_base1_joint" type="fixed">
    <origin rpy="0 0 0" xyz="0 -0.51 0"/>
    <parent link="world"/>
    <child link="mara1_base_link"/>
  </joint>
  <joint name="world_to_base2_joint" type="fixed">
    <origin rpy="0 0 0" xyz="0 0.51 0"/>
    <parent link="world"/>
    <child link="mara2_base_link"/>
  </joint>
</robot>
